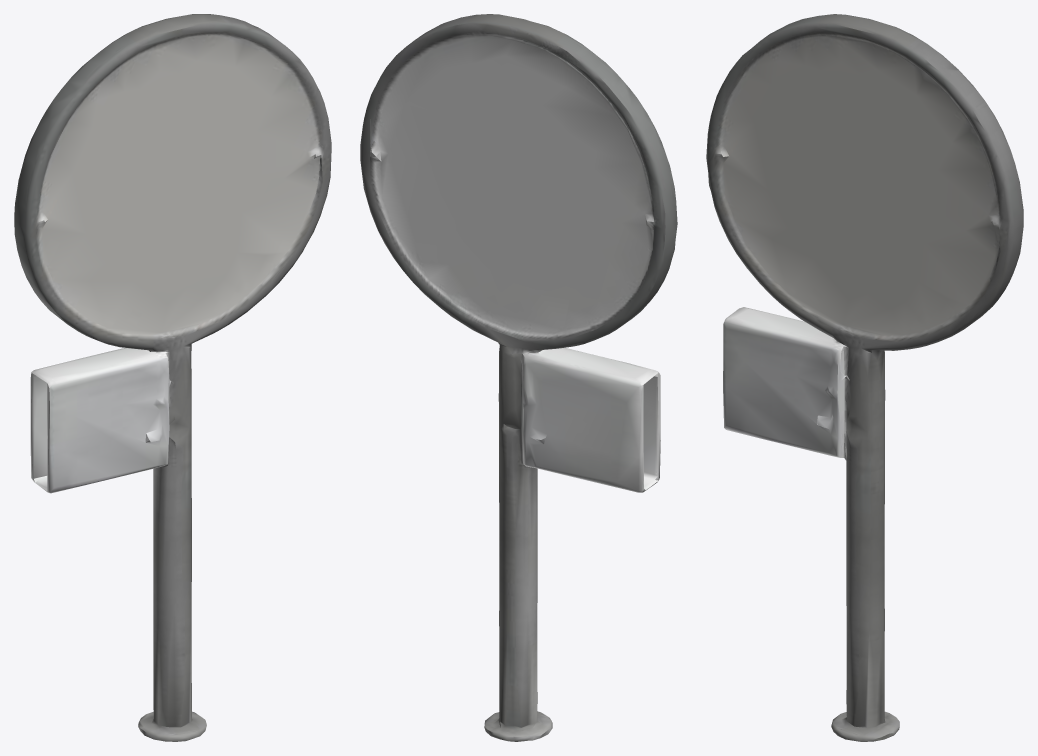
Rendered from busstop.glb.
The picture shows the model from 3 angles, left to right: view 1: azimuth 30°, elevation 25°; view 2: azimuth 150°, elevation 25°; view 3: azimuth 330°, elevation 25°; orthographic projection.
Parts seen in each view (by area): view 1: busstop; view 2: busstop; view 3: busstop.
Part boxes in pixels (x1,y1,x2,y2): busstop: (14,14,331,741); busstop: (360,14,677,741); busstop: (706,14,1023,741).
Size of the model in its own units: 1.14 by 2.5 by 0.2228.
1 material, 1 textured.
